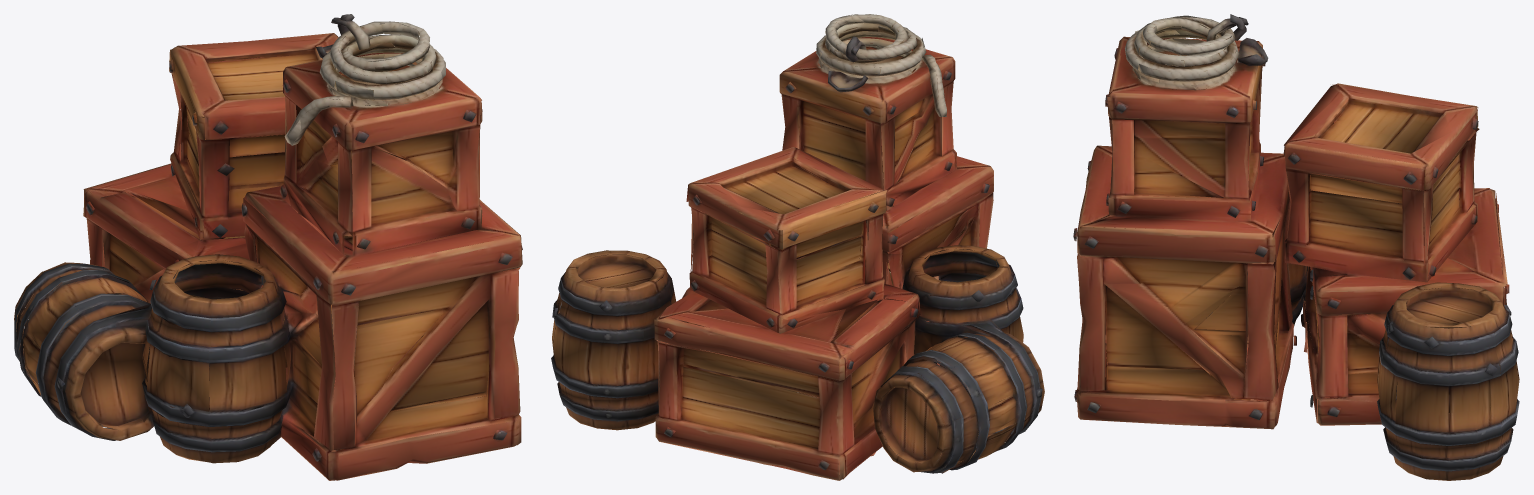
Rendered from crate_barrel_cluster.glb.
The picture shows the model from 3 angles, left to right: view 1: azimuth 30°, elevation 25°; view 2: azimuth 150°, elevation 25°; view 3: azimuth 270°, elevation 25°; orthographic projection. The views are drawn at different scales.
Parts seen in each view (by area): view 1: crate_barrel_cluster; view 2: crate_barrel_cluster; view 3: crate_barrel_cluster.
Boxes of the visible parts, bbox=[...] form: crate_barrel_cluster: bbox=[14, 14, 522, 480]; crate_barrel_cluster: bbox=[551, 14, 1044, 480]; crate_barrel_cluster: bbox=[1073, 14, 1519, 480].
Bounding box in the file's own units: 8.84 × 7 × 7.53.
1 material, 1 textured.
